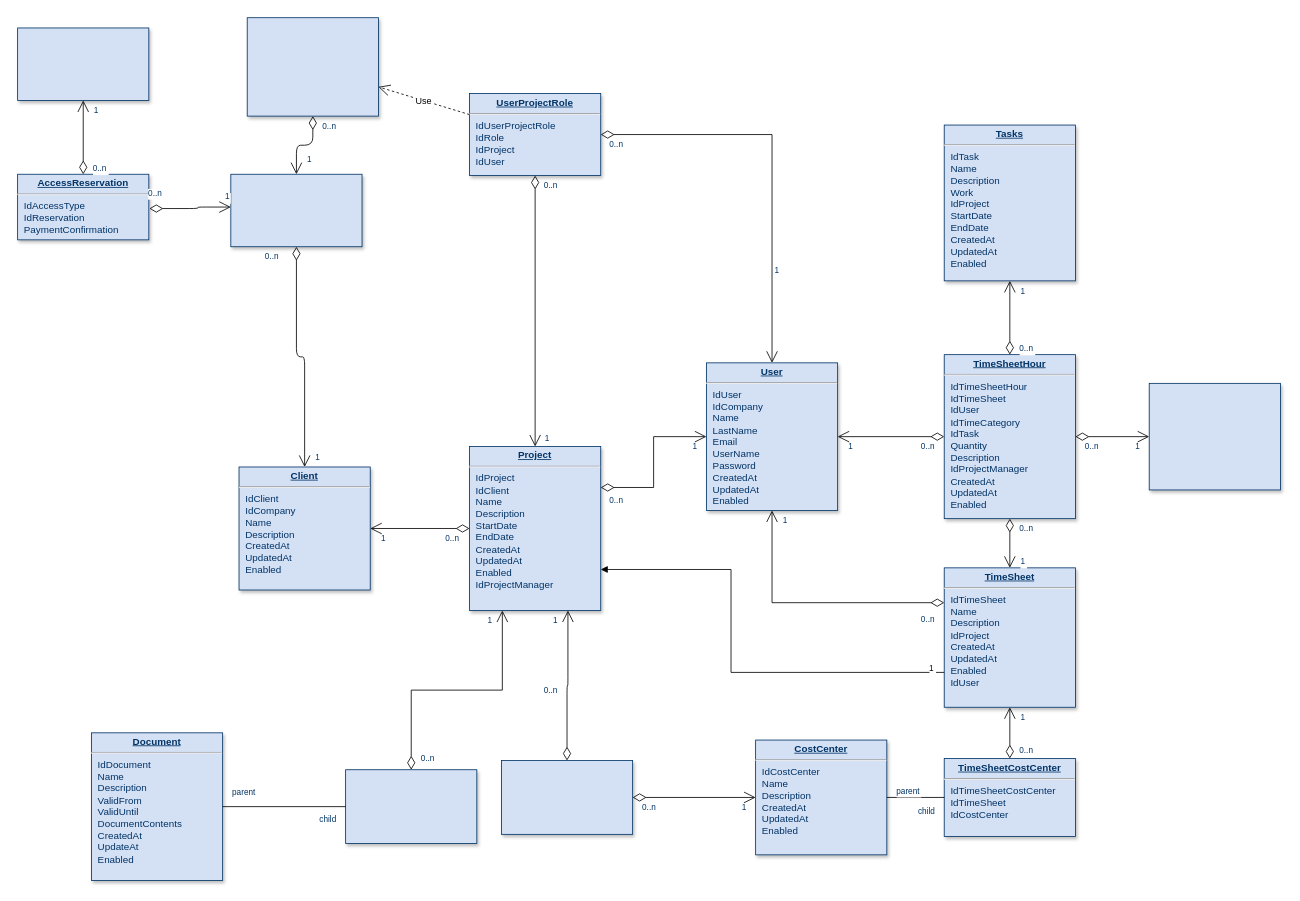
This 1300x901 diagram has some shape labels left out. The centre of each missing label's shape, as x and y in pixels:
"AccessType Id AccessName Price" belongs at point (84, 65).
"ProjectCostCenter IdProjectCostCenter IdProject IdCostCenter" belongs at point (567, 798).
"ProjectDocument IdProjectDocument IdProject IdDocument" belongs at point (412, 807).
"Reservation Id SeatNumber Date" belongs at point (297, 211).
"Role IdCompany Name Description CreatedAt UpdatedAt Enabled" belongs at point (313, 68).
"TimeCategory IdTimeCategory Name Description CreatedAt UpdatedAt Enabled" belongs at point (1215, 437).
